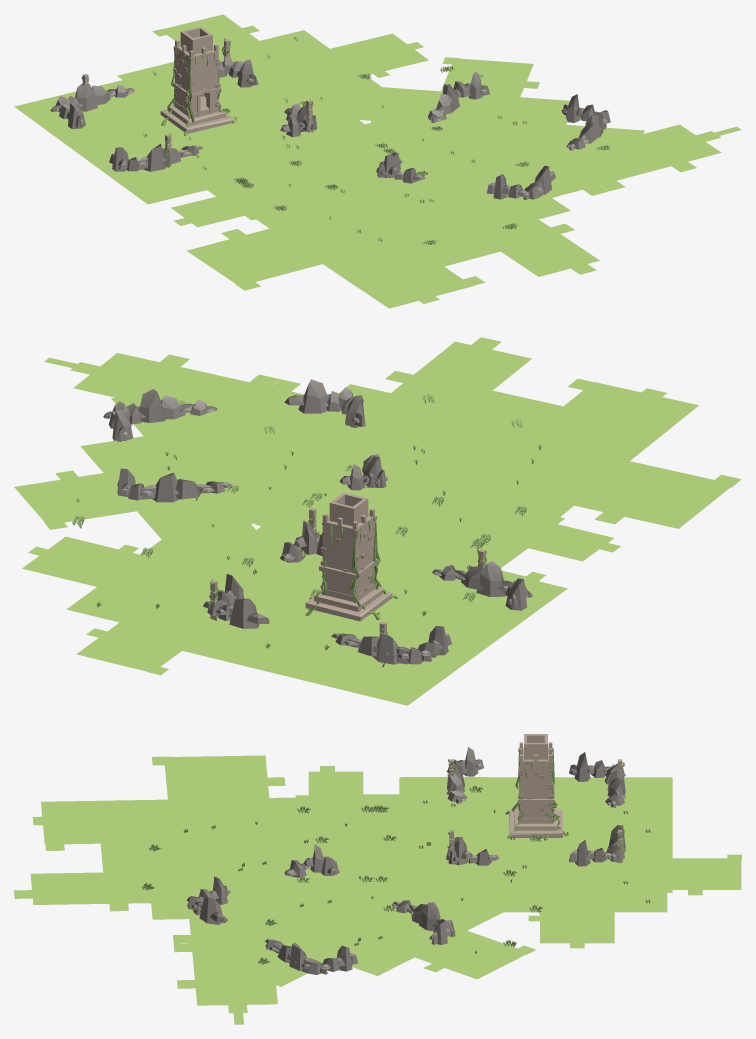
Rendered from planeGround8.glb.
3 renders of one model, top to bottom at view 1: azimuth 30°, elevation 25°; view 2: azimuth 150°, elevation 25°; view 3: azimuth 270°, elevation 25°, orthographic. The views are drawn at different scales.
Parts seen in each view (by area): view 1: Object_7.003, Object_7.004, Object_7.002, Object_7.001, Plane, Object_3, Object_9, Object_9.001, Object_11; view 2: Object_7.003, Object_7.004, Object_7.002, Plane, Object_7.001, Object_9.001, Object_9, Object_3, Object_11, Object_4; view 3: Object_7.003, Object_7.004, Object_7.002, Object_7.001, Plane, Object_9.001, Object_9, Object_3, Object_11, Object_4.
Boxes of the visible parts, x1,y1,x2,y2 form: Object_7.003: [186, 124, 741, 308]; Object_7.004: [283, 57, 651, 271]; Object_7.002: [117, 14, 428, 142]; Object_7.001: [127, 99, 369, 227]; Plane: [14, 80, 206, 204]; Object_3: [82, 26, 312, 167]; Object_9: [50, 56, 317, 171]; Object_9.001: [376, 71, 610, 199]; Object_11: [81, 38, 313, 167]; Object_7.003: [44, 337, 741, 564]; Object_7.004: [14, 384, 598, 558]; Object_7.002: [22, 523, 415, 675]; Plane: [182, 581, 567, 705]; Object_7.001: [256, 515, 621, 623]; Object_9.001: [103, 379, 387, 502]; Object_9: [203, 520, 532, 664]; Object_3: [210, 492, 485, 636]; Object_11: [209, 507, 486, 666]; Object_4: [241, 505, 526, 650]; Object_7.003: [14, 755, 449, 1024]; Object_7.004: [106, 825, 536, 986]; Object_7.002: [436, 808, 741, 948]; Object_7.001: [295, 766, 563, 887]; Plane: [399, 777, 672, 892]; Object_9.001: [187, 844, 455, 974]; Object_9: [446, 747, 625, 866]; Object_3: [449, 734, 622, 862]; Object_11: [448, 748, 624, 862]; Object_4: [297, 786, 650, 876].
Size of the model in its own units: 46.64 by 8.67 by 53.27.
